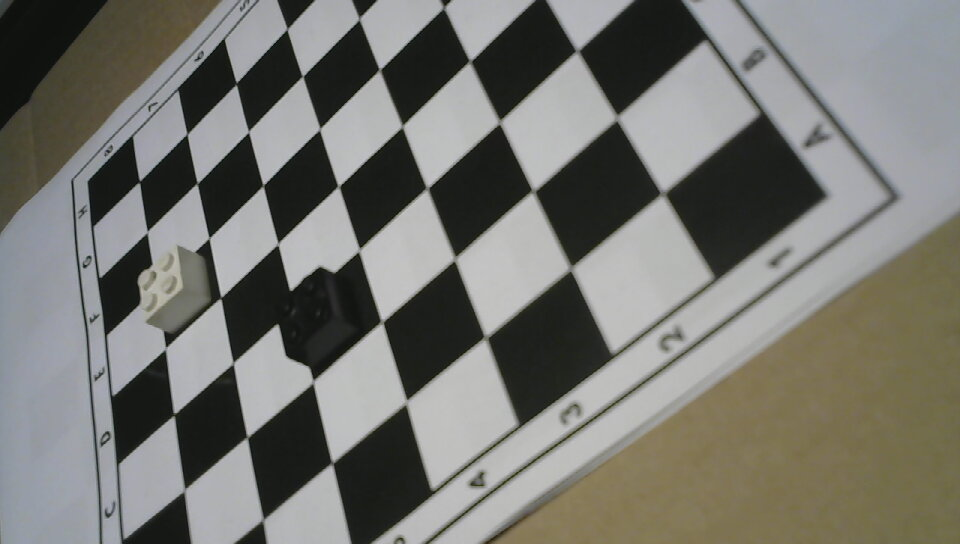bp: (271, 261, 362, 370)
